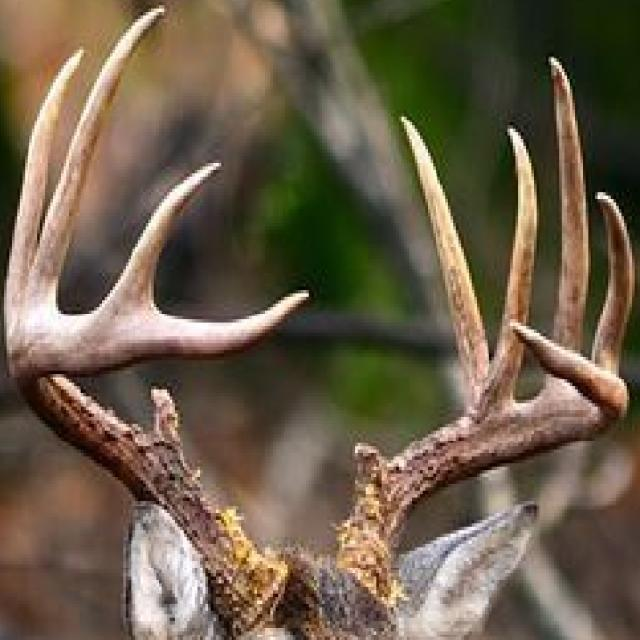L-F: (329, 319, 630, 606)
L-G1: (353, 441, 389, 500)
L-G2: (399, 114, 489, 414)
L-G3: (466, 121, 540, 415)
R-F: (8, 287, 311, 640)
R-G1: (146, 384, 184, 463)
R-G3: (20, 6, 169, 321)
R-G4: (99, 160, 225, 313)
